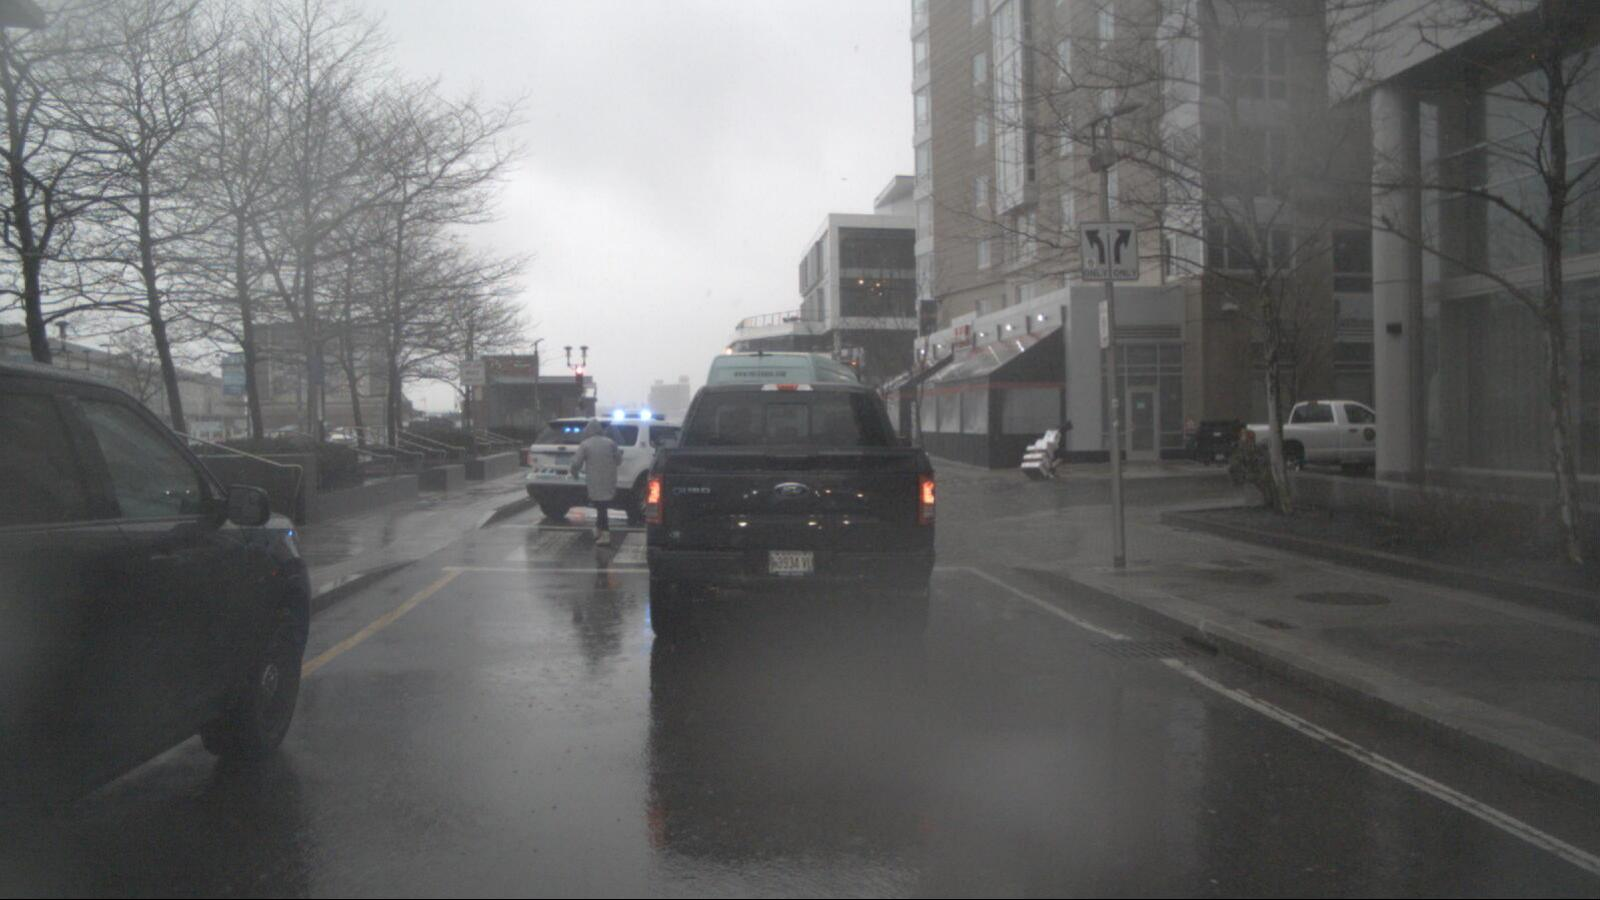human.pedestrian.adult-pedestrian.moving: (570, 418, 623, 546), (1048, 421, 1073, 480)
